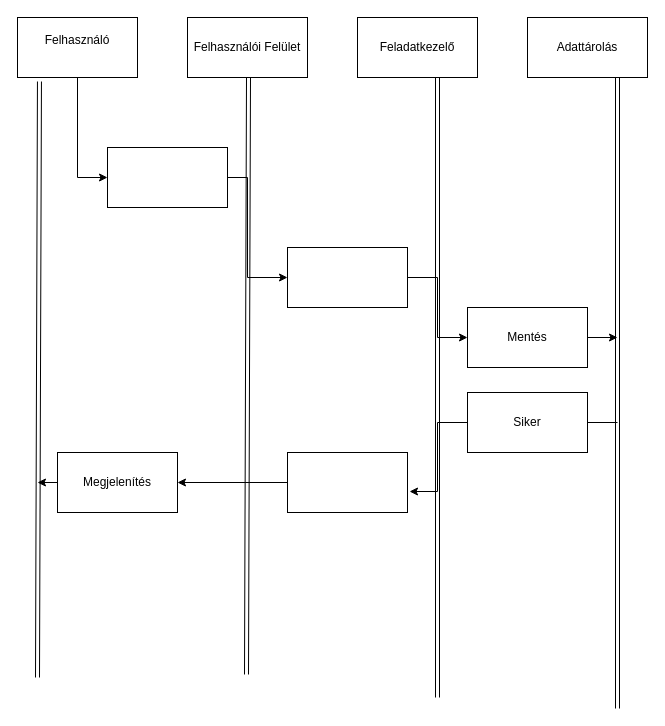
The diagram is 665 pixels wide and 726 high, and some of its shapes have lost their labels. The box of each missing label's shape, as (x1, y1, x2, y2) in pixels:
Frissített lista: (286, 452, 408, 512)
Létrehozás: (286, 246, 408, 308)
Új feladat: (106, 146, 228, 208)
